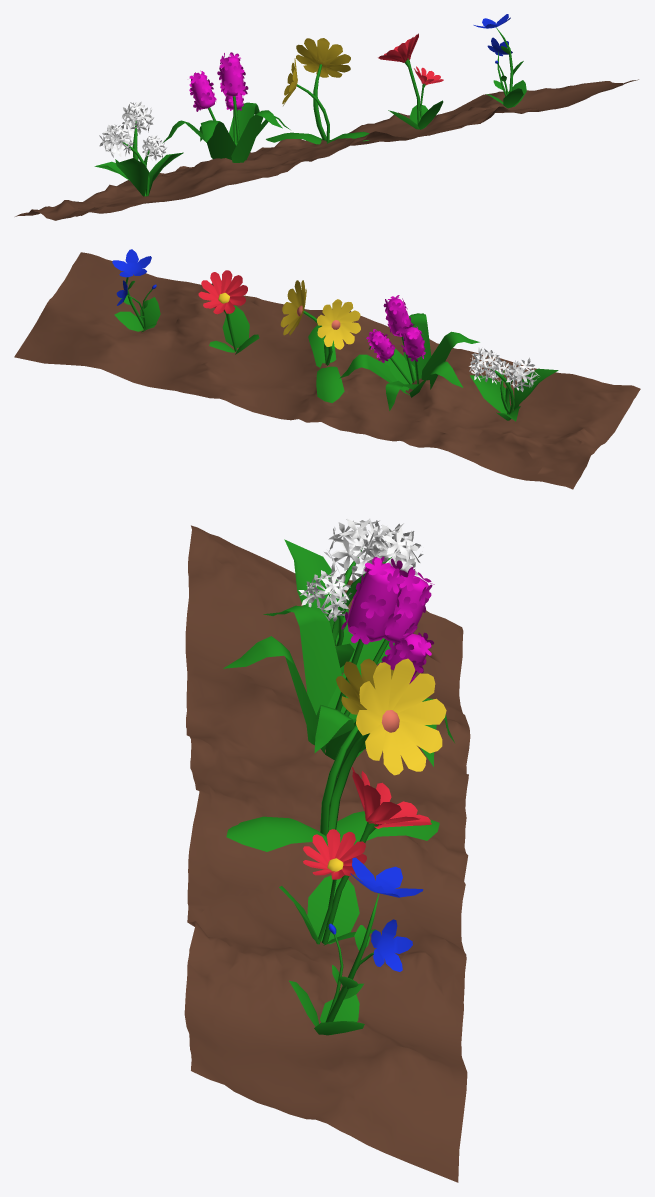
The model's file is garden-bed.glb.
3 views of the same model, one above another, from view 1: azimuth 30°, elevation 25°; view 2: azimuth 150°, elevation 25°; view 3: azimuth 270°, elevation 25° (orthographic). The views are drawn at different scales.
Parts seen in each view (by area): view 1: ground, flower-violet, flower-white, flower-yellow, flower-red, flower-blue; view 2: ground, flower-violet, flower-yellow, flower-white, flower-red, flower-blue; view 3: ground, flower-violet, flower-yellow, flower-red, flower-white, flower-blue.
Part boxes in pixels (x1=…): ground: x1=15, y1=79, x2=638, y2=220; flower-violet: x1=162, y1=52, x2=290, y2=162; flower-white: x1=94, y1=101, x2=183, y2=196; flower-yellow: x1=266, y1=38, x2=369, y2=144; flower-red: x1=378, y1=33, x2=443, y2=129; flower-blue: x1=473, y1=14, x2=526, y2=108; ground: x1=14, y1=252, x2=640, y2=489; flower-violet: x1=339, y1=295, x2=479, y2=410; flower-yellow: x1=280, y1=280, x2=360, y2=403; flower-white: x1=469, y1=347, x2=558, y2=421; flower-red: x1=198, y1=270, x2=259, y2=354; flower-blue: x1=112, y1=249, x2=160, y2=332; ground: x1=184, y1=525, x2=470, y2=1182; flower-violet: x1=223, y1=556, x2=454, y2=766; flower-yellow: x1=226, y1=658, x2=446, y2=851; flower-red: x1=279, y1=767, x2=431, y2=945; flower-white: x1=284, y1=518, x2=423, y2=673; flower-blue: x1=289, y1=857, x2=423, y2=1035.
Size of the model in its own units: 18.44 by 4.24 by 4.08.
